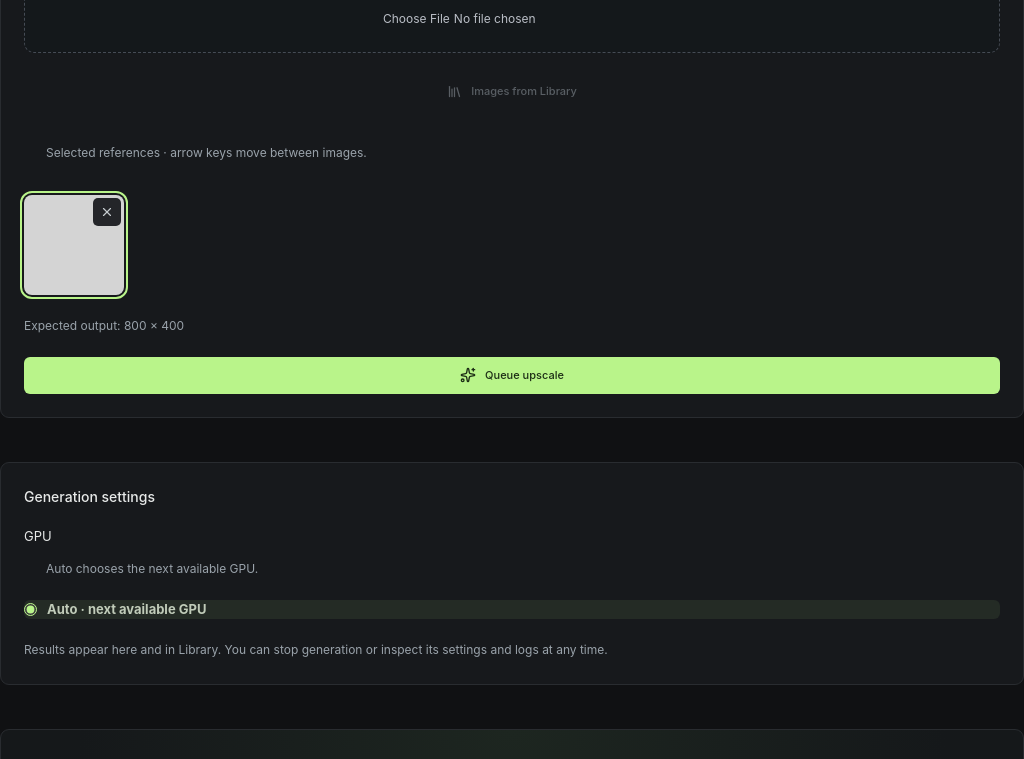
Test case: reuses a Library source, shows upscale dimensions, and submits its identity
(page scrolled)
Expected: the text "Expected output: 800 × 400" is shown, [24, 318, 184, 334]
What coordinates should you click on to do the following:
click the button "Queue upscale"
I would click on:
 (512, 375)
Its box is [24, 357, 1000, 394].
(page scrolled)
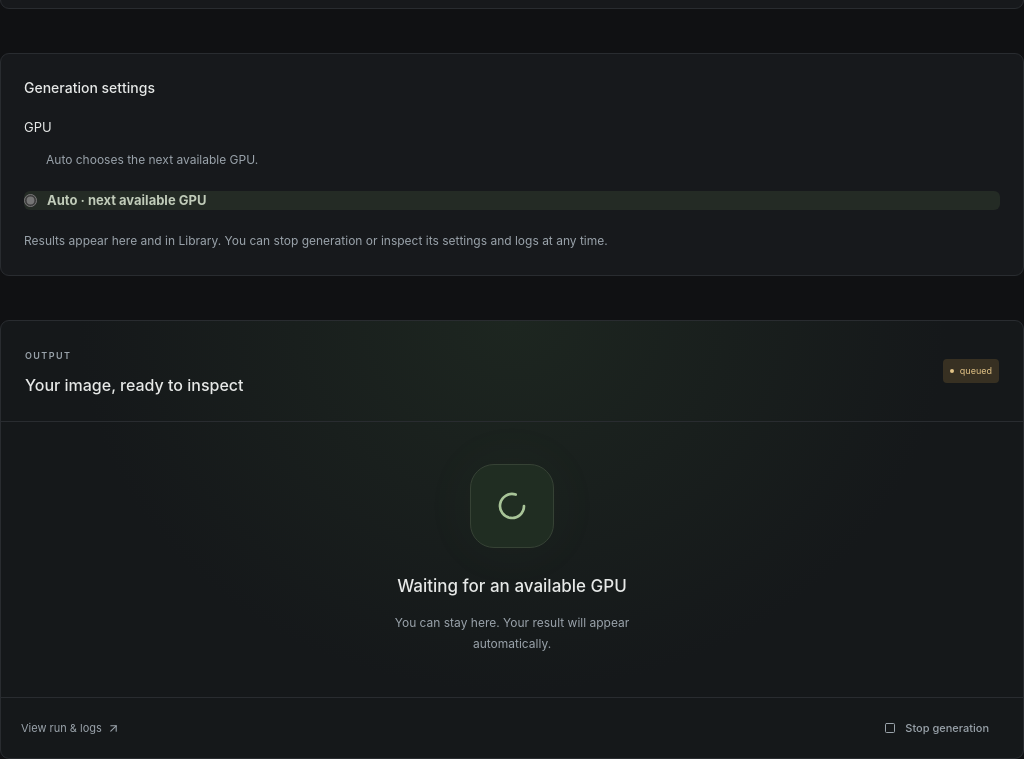
Result: the heading "Waiting for an available GPU" is shown at [397, 574, 627, 600]
